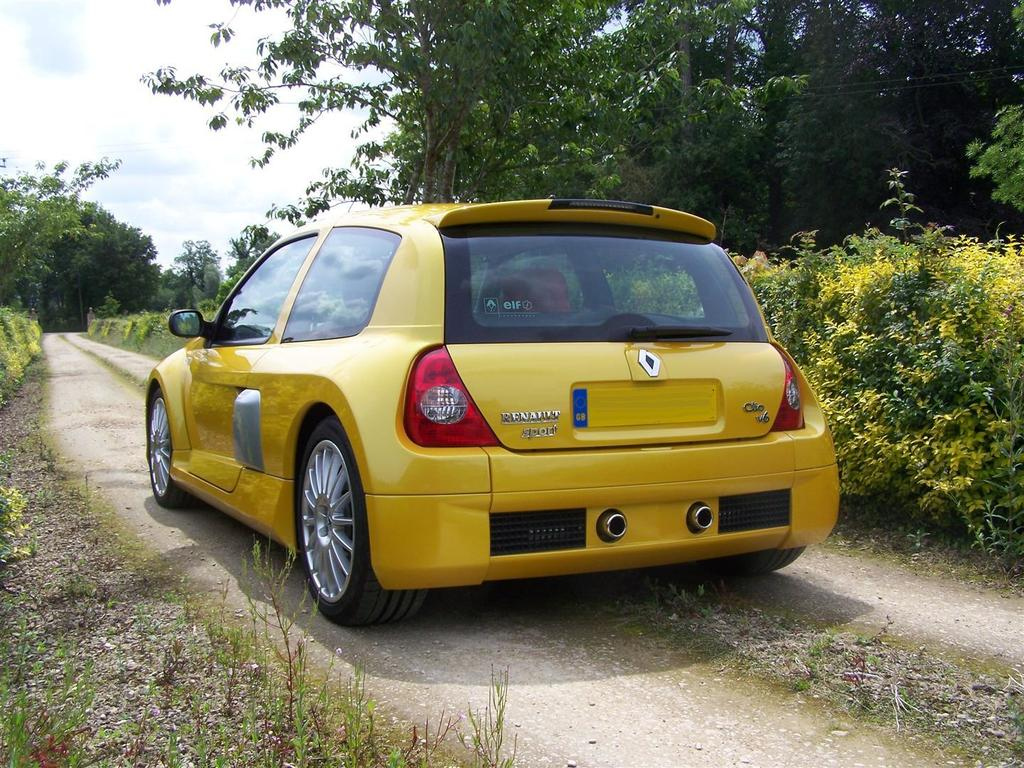Car: (134, 201, 834, 630)
